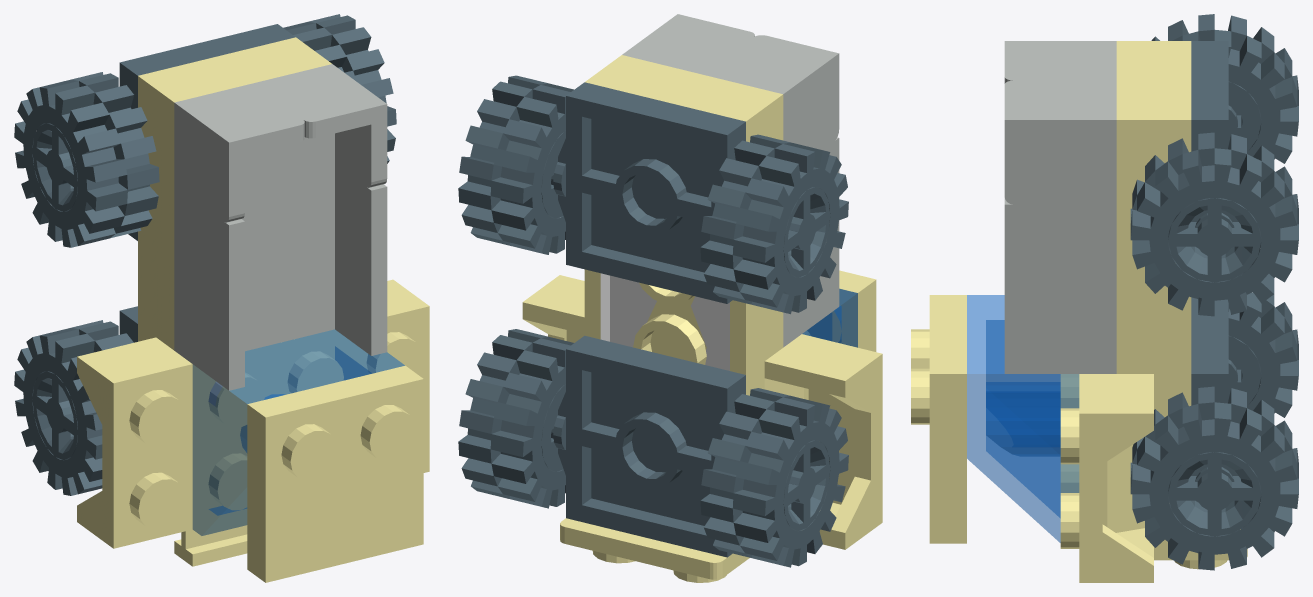
The model's file is Smallcar.gltf.
3 renders of one model, left to right at view 1: azimuth 30°, elevation 25°; view 2: azimuth 150°, elevation 25°; view 3: azimuth 270°, elevation 25°, orthographic. The views are drawn at different scales.
Visible parts, largest first — view 1: Piece018, Piece014, Piece011, Piece002, Piece010, Piece017, Piece012, Piece005, Piece013, Piece015, Piece016, Piece006 (+5 smaller); view 2: Piece003, Piece000, Piece005, Piece002, Piece006, Piece014, Piece001, Piece004, Piece012, Piece007, Piece013, Piece009 (+4 smaller); view 3: Piece001, Piece004, Piece011, Piece017, Piece014, Piece013, Piece018, Piece002, Piece006, Piece009, Piece005, Piece012 (+6 smaller).
Boxes of the visible parts, <box> form: Piece018: <box>247,365,423,582</box>; Piece014: <box>77,279,429,548</box>; Piece011: <box>271,164,387,355</box>; Piece002: <box>14,72,159,247</box>; Piece010: <box>174,179,271,390</box>; Piece017: <box>192,329,404,535</box>; Piece012: <box>174,83,304,222</box>; Piece005: <box>14,320,133,495</box>; Piece013: <box>254,64,387,187</box>; Piece015: <box>192,329,350,446</box>; Piece016: <box>174,434,247,566</box>; Piece006: <box>138,37,313,341</box>; Piece003: <box>551,335,745,557</box>; Piece000: <box>551,82,745,303</box>; Piece005: <box>700,388,848,567</box>; Piece002: <box>700,134,848,314</box>; Piece006: <box>584,68,764,395</box>; Piece014: <box>522,275,882,549</box>; Piece001: <box>458,75,573,254</box>; Piece004: <box>458,329,573,508</box>; Piece012: <box>703,35,839,149</box>; Piece007: <box>560,518,749,582</box>; Piece013: <box>622,14,754,74</box>; Piece009: <box>603,55,783,140</box>; Piece001: <box>1130,132,1298,316</box>; Piece004: <box>1130,386,1298,570</box>; Piece011: <box>1004,198,1116,373</box>; Piece017: <box>967,295,1079,542</box>; Piece014: <box>1060,374,1153,582</box>; Piece013: <box>1004,80,1116,204</box>; Piece018: <box>911,295,966,543</box>; Piece002: <box>1151,14,1298,163</box>; Piece006: <box>1154,41,1191,417</box>; Piece009: <box>1116,41,1153,289</box>; Piece005: <box>1228,292,1298,417</box>; Piece012: <box>1004,41,1116,83</box>.
Bounding box in the file's own units: 80 × 109 × 83.
